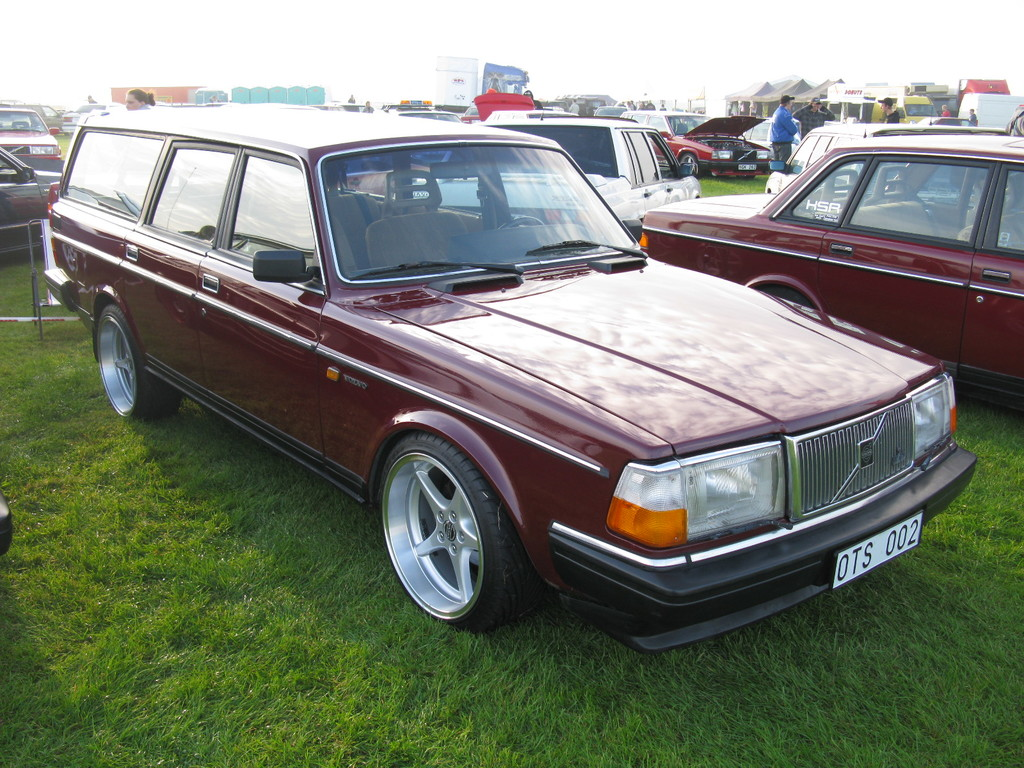car: (33, 72, 997, 632), (609, 114, 1024, 434), (453, 116, 720, 228), (607, 89, 781, 191), (1, 97, 72, 183)
